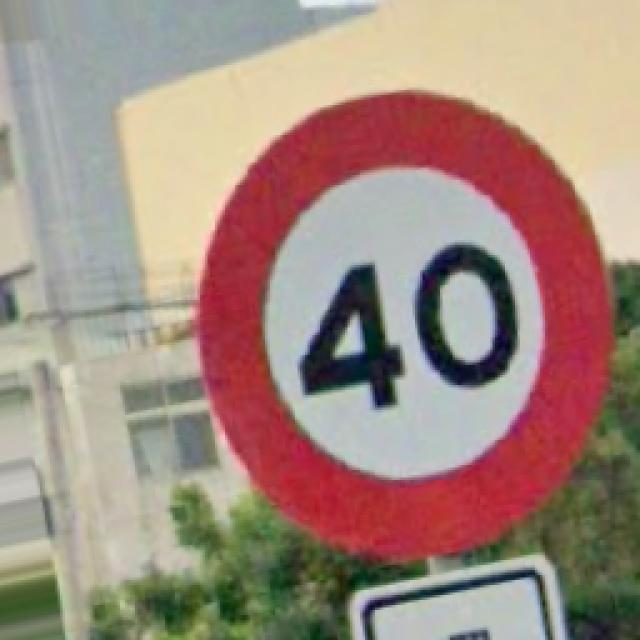Speed Limit -40-: (200, 92, 605, 555)
